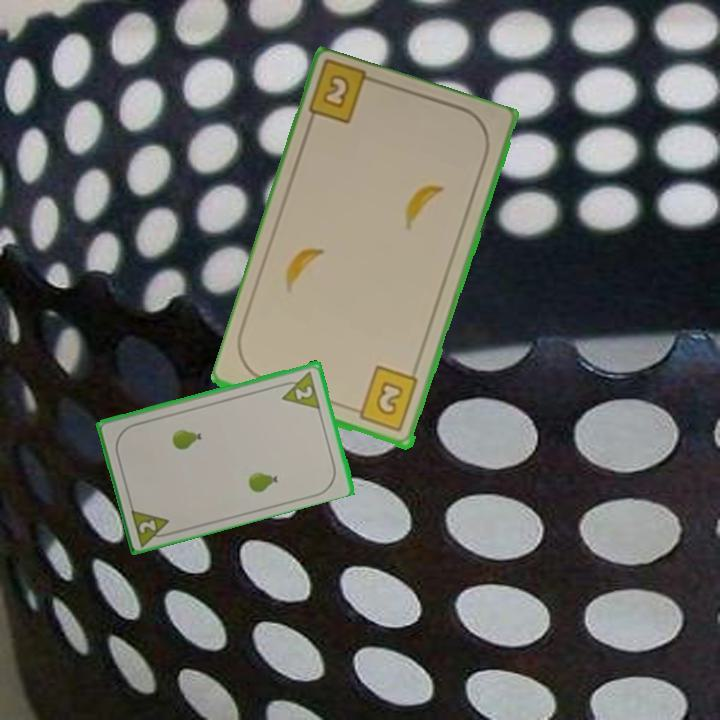2b: (348, 363, 422, 435), (319, 71, 353, 112)
2p: (127, 504, 177, 548), (275, 367, 323, 411)
